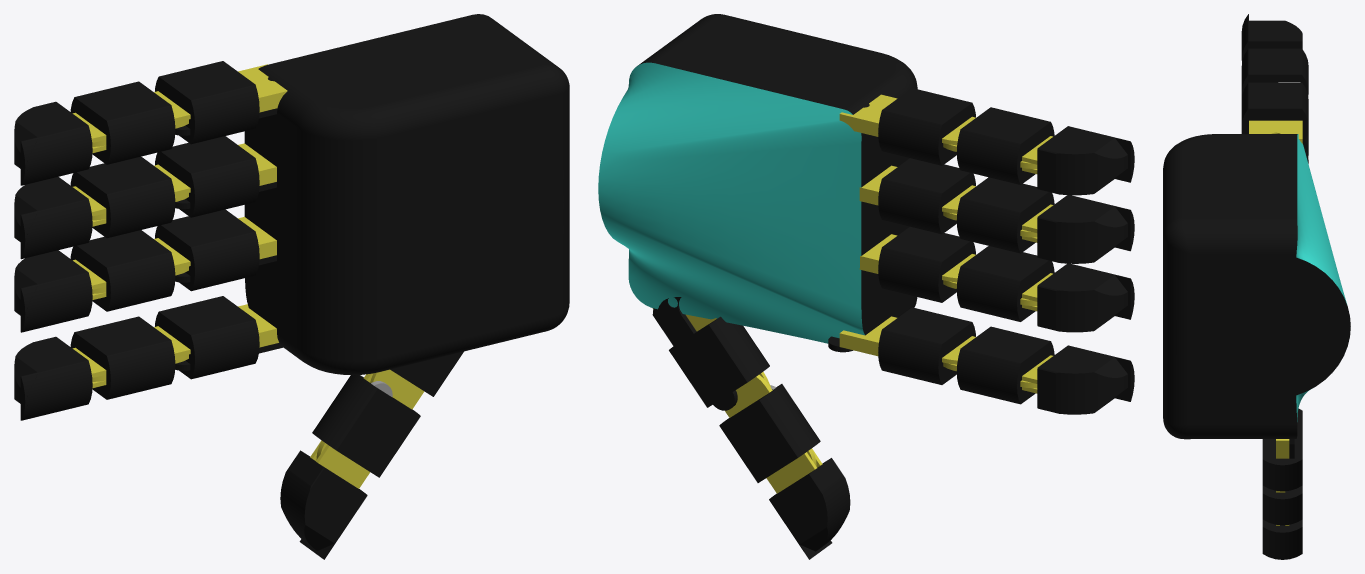
Rendered from hand_dexter.obj.
3 views of the same model, side by side, from view 1: azimuth 30°, elevation 25°; view 2: azimuth 150°, elevation 25°; view 3: azimuth 270°, elevation 25° (orthographic). The views are drawn at different scales.
Parts seen in each view (by area): view 1: Body1:33, Body7, Body1:30, Body1:6, Body1:5, Body1:29, Body1:22, Body1:14, Body1:13, Body1:21, Body8, Body1:7 (+14 smaller); view 2: Body1:33, Body7, Body6, Body1:29, Body1:5, Body1:6, Body1:30, Body1:13, Body1:21, Body1:31, Body1:15, Body1:14 (+11 smaller); view 3: Body1:33, Body1:29, Body1:30, Body6, Body1:31, Body7, Body8, Body1:26, Body9, Body3.
Part boxes in pixels (<box>): Body1:33: <box>244,14,569,375</box>; Body7: <box>312,375,420,477</box>; Body1:30: <box>70,81,175,164</box>; Body1:6: <box>70,316,175,399</box>; Body1:5: <box>155,296,259,379</box>; Body1:29: <box>155,61,259,144</box>; Body1:22: <box>70,156,175,238</box>; Body1:14: <box>70,230,175,311</box>; Body1:13: <box>155,209,259,291</box>; Body1:21: <box>155,136,259,217</box>; Body8: <box>280,450,367,550</box>; Body1:7: <box>14,336,92,416</box>; Body1:33: <box>598,14,917,343</box>; Body7: <box>719,384,820,482</box>; Body6: <box>669,316,769,407</box>; Body1:29: <box>878,88,975,165</box>; Body1:5: <box>878,307,975,384</box>; Body1:6: <box>956,326,1054,404</box>; Body1:30: <box>956,107,1054,184</box>; Body1:13: <box>878,226,975,302</box>; Body1:21: <box>878,158,975,234</box>; Body1:31: <box>1037,126,1127,195</box>; Body1:15: <box>1037,263,1127,332</box>; Body1:14: <box>956,246,1054,321</box>; Body1:33: <box>1163,134,1350,439</box>; Body1:29: <box>1241,82,1308,142</box>; Body1:30: <box>1241,48,1308,96</box>; Body6: <box>1262,408,1302,491</box>; Body1:31: <box>1241,20,1302,62</box>; Body7: <box>1262,485,1302,525</box>; Body8: <box>1262,519,1302,558</box>; Body1:26: <box>1249,120,1302,143</box>; Body9: <box>1262,526,1302,559</box>; Body3: <box>1276,439,1289,492</box>.
Size of the model in its own units: 0.1813 by 0.172 by 0.07.
